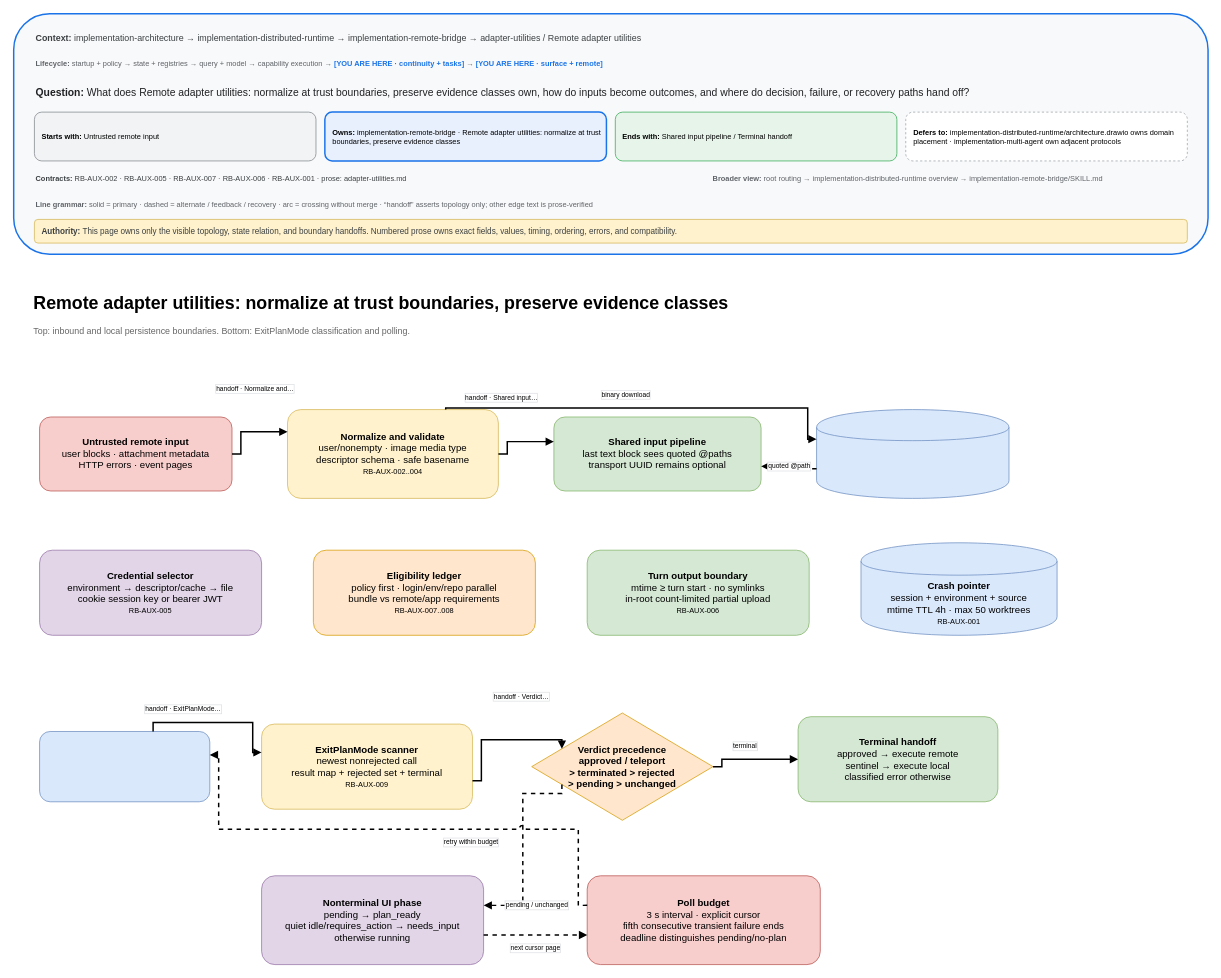
Image size: 1221x978. Some labels were removed from this diagram. Here are the shapes that lost their labels. From the top down, the box of each, then its label:
(13, 13, 1208, 255): CUSTOM DIAGRAM CONTEXT · v2.1
(816, 409, 1009, 498): Session upload root sanitized UUID prefix + filename per-file best effort
(39, 731, 210, 802): Cursor page assistant tool uses user tool results · result subtype
